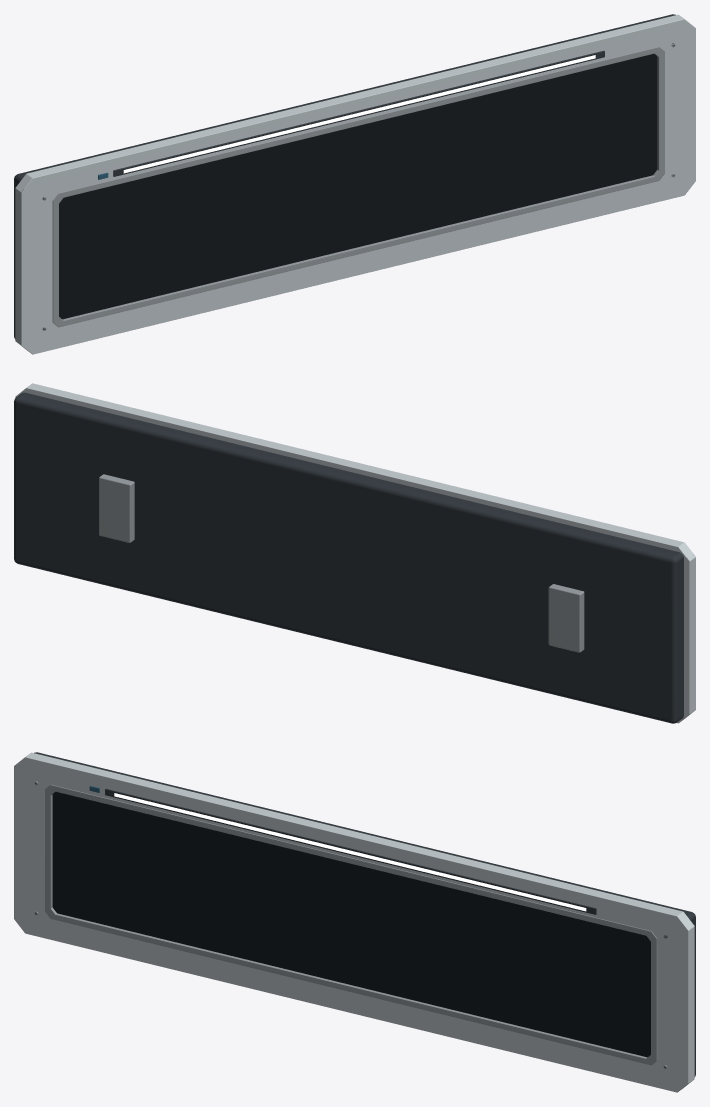
Rendered from AD_sign_Manufactured.fbx.
3 views of the same model, one above another, from view 1: azimuth 30°, elevation 25°; view 2: azimuth 150°, elevation 25°; view 3: azimuth 330°, elevation 25° (orthographic).
Parts seen in each view (by area): view 1: AD_sign_Manufactured; view 2: AD_sign_Manufactured; view 3: AD_sign_Manufactured.
Boxes of the visible parts, x1,y1,x2,y2 form: AD_sign_Manufactured: [14, 14, 695, 354]; AD_sign_Manufactured: [14, 383, 695, 723]; AD_sign_Manufactured: [14, 752, 695, 1092].
Size of the model in its own units: 1.8 by 0.45 by 0.094.
